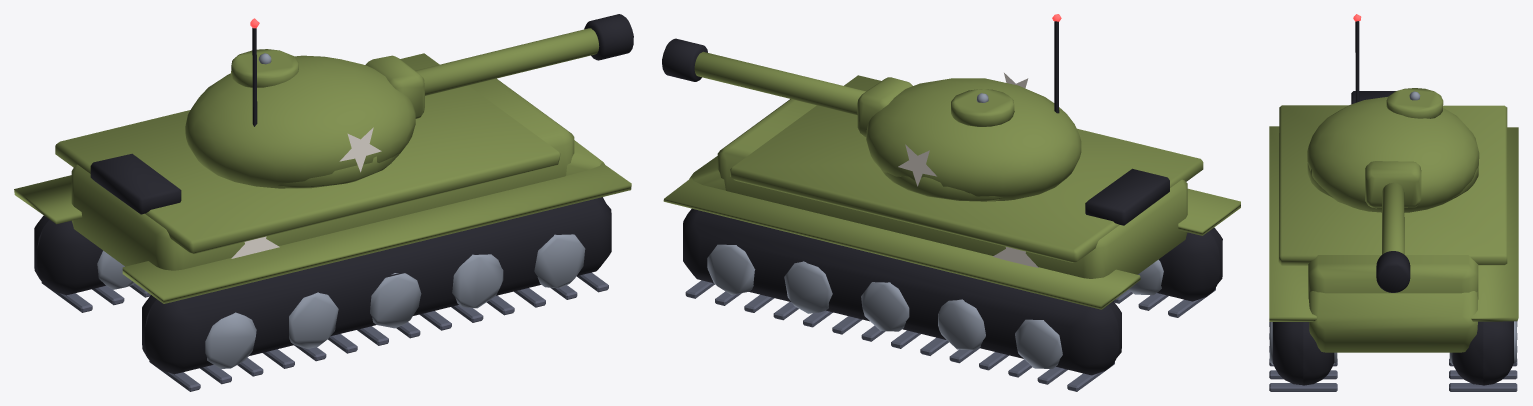
File: tank.glb
3 views of the same model, side by side, from view 1: azimuth 30°, elevation 25°; view 2: azimuth 150°, elevation 25°; view 3: azimuth 270°, elevation 25° (orthographic). The views are drawn at different scales.
Parts seen in each view (by area): view 1: tank.012, turret.005, barrel.009; view 2: tank.012, turret.005, barrel.009; view 3: tank.012, turret.005, barrel.009.
Part boxes in pixels (x1,y1,x2,y2): tank.012: (14,53,631,391); turret.005: (185,18,424,188); barrel.009: (415,14,633,95); tank.012: (663,75,1240,391); turret.005: (857,14,1081,201); barrel.009: (662,38,865,115); tank.012: (1269,91,1518,391); turret.005: (1307,14,1479,212); barrel.009: (1376,182,1410,292).
Bounding box in the file's own units: 7.17 × 3.91 × 3.47.
1 material, 1 textured.
